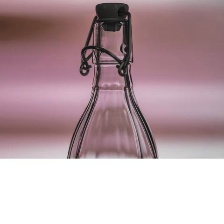bottle: (64, 0, 161, 159)
